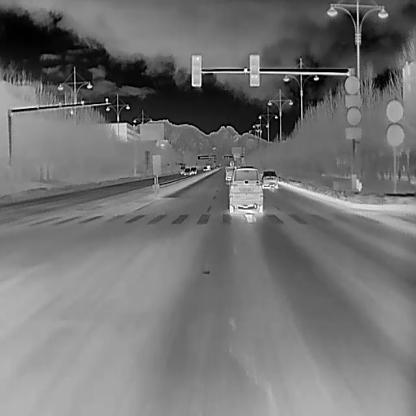car: (228, 166, 262, 214), (261, 170, 278, 188), (224, 166, 236, 181), (183, 166, 190, 174), (189, 166, 196, 174), (202, 165, 207, 171), (206, 163, 210, 170)
truck: (178, 162, 185, 173), (228, 160, 235, 167)
